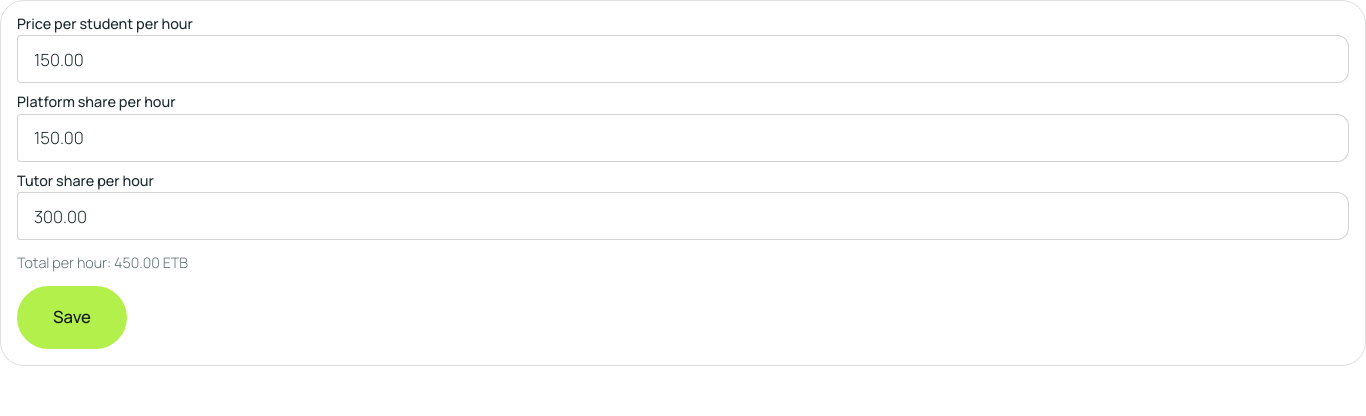
Test: PricingConfigForm › uses decimal-safe arithmetic (0.1 x 3 = 0.3 = 0.1 + 0.2)
Replace the text in the field labelled "Price per student per hour" with "0.1" at [683, 59], box [17,35,1349,83]
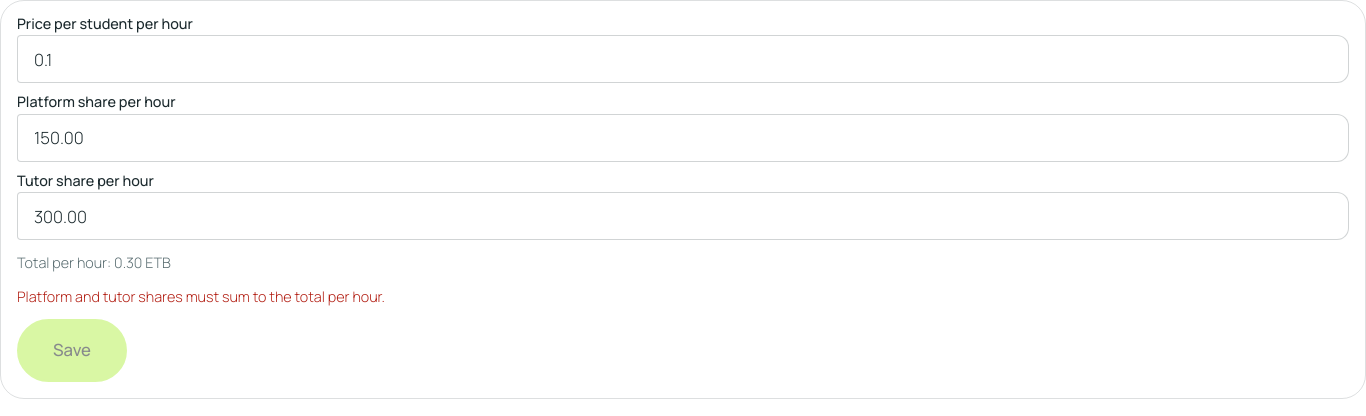
Replace the text in the field labelled "Platform share per hour" with "0.1" at [683, 138], box [17,114,1349,162]
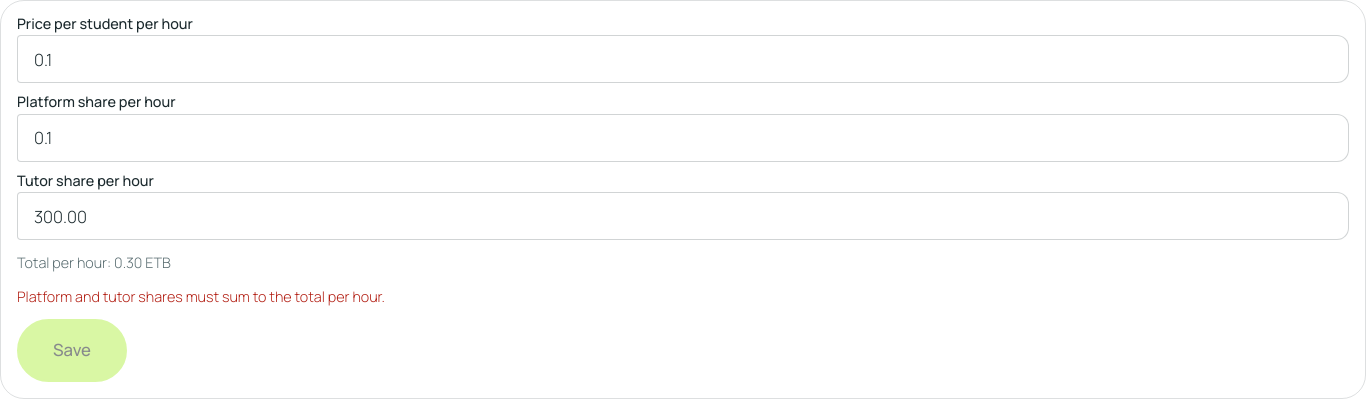
Replace the text in the field labelled "Tutor share per hour" with "0.2" at [683, 216], box [17,192,1349,240]
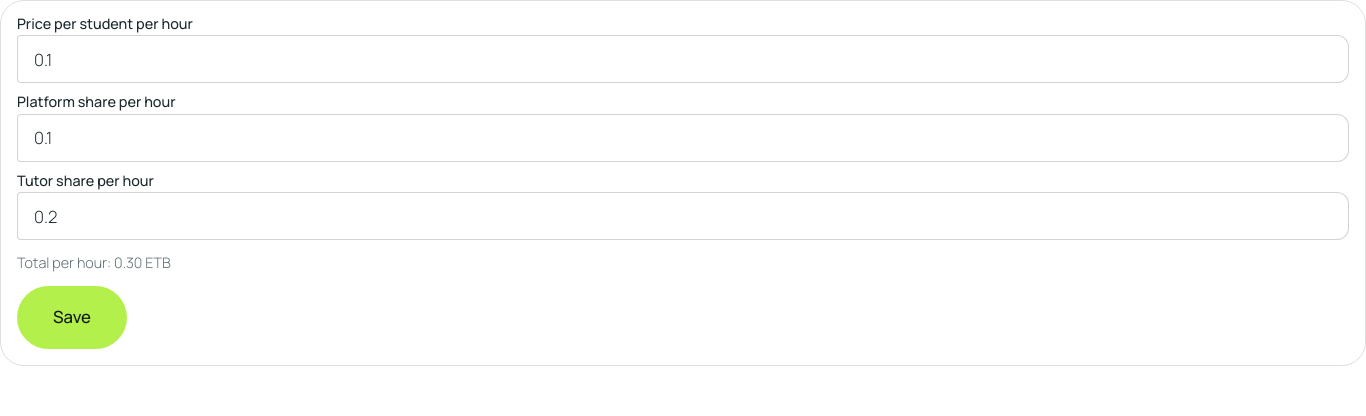
Now the button "Save" is enabled, box [17,286,127,349]
